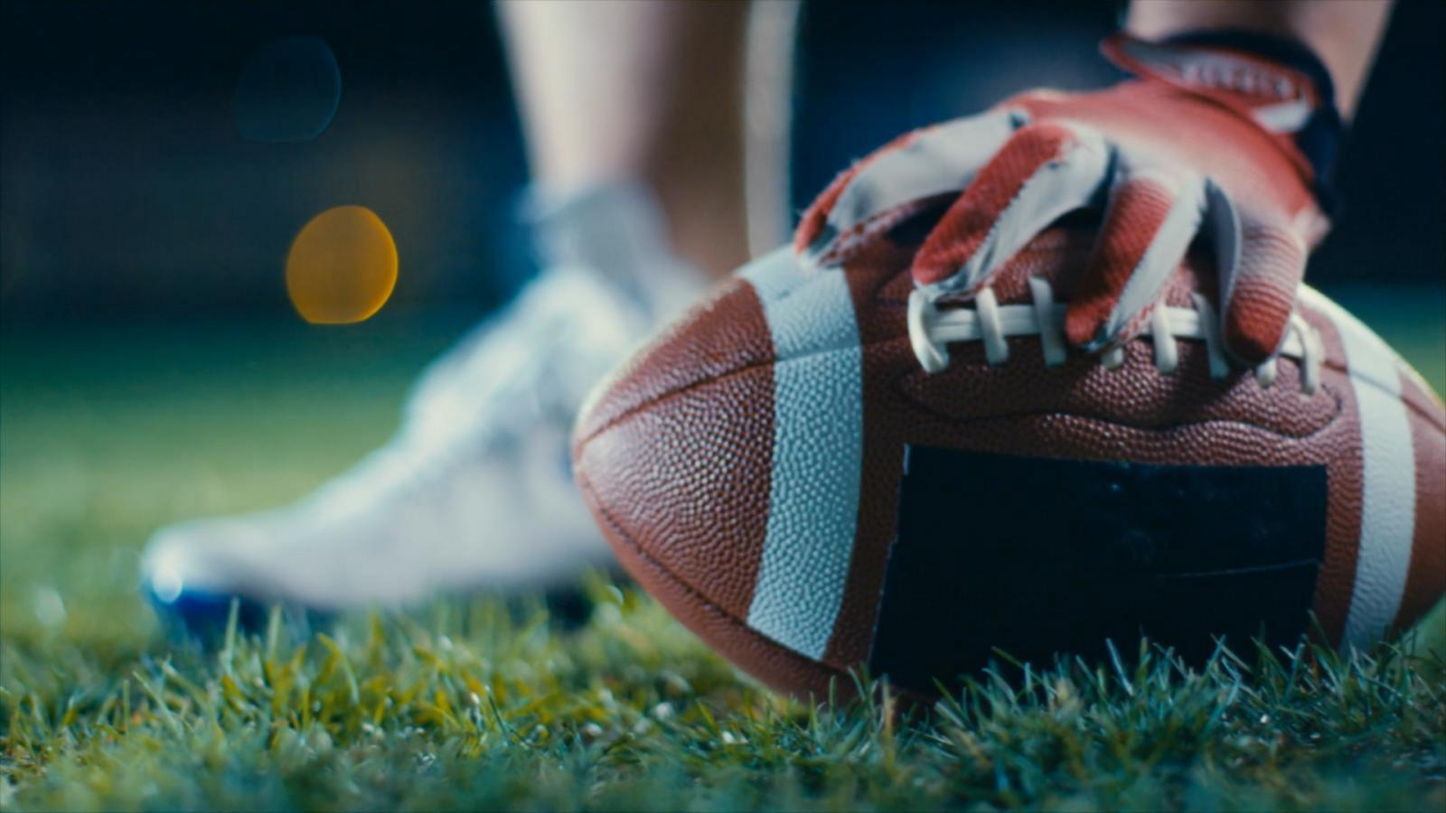americanFootball: (570, 234, 1446, 717)
